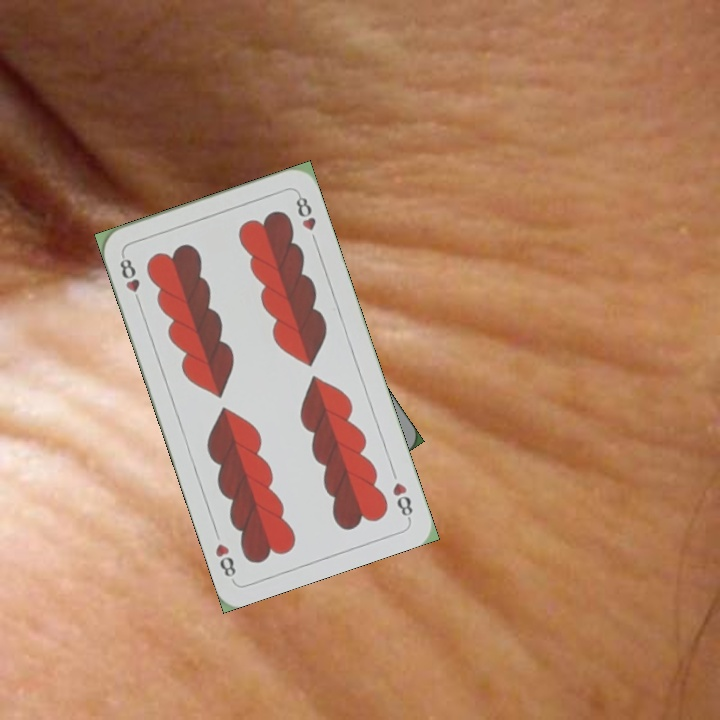H8: (115, 250, 144, 308), (388, 478, 416, 522)
